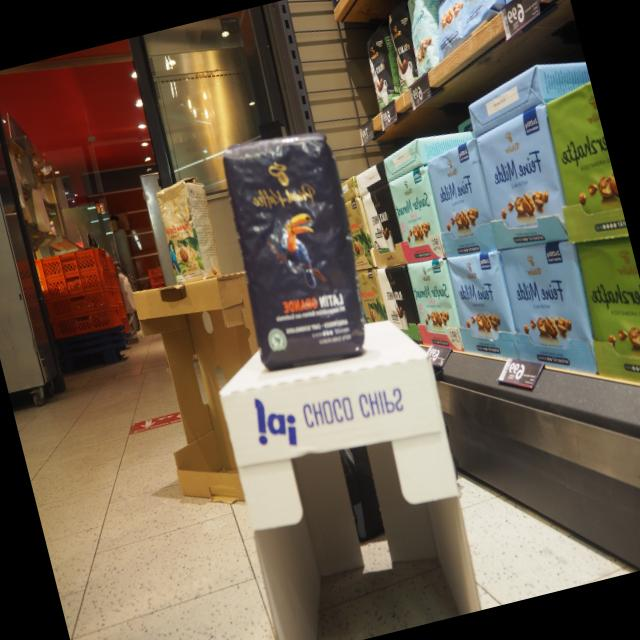LG Bohne: (217, 130, 373, 374)
